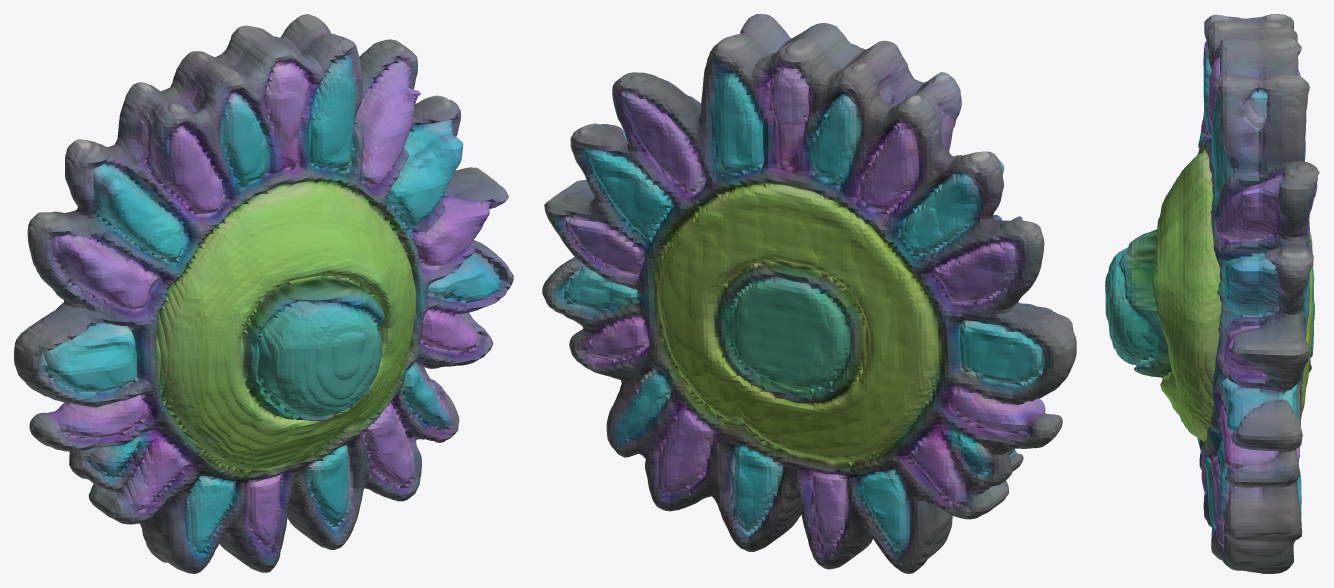
3 renders of one model, left to right at view 1: azimuth 30°, elevation 25°; view 2: azimuth 150°, elevation 25°; view 3: azimuth 270°, elevation 25°, orthographic. The views are drawn at different scales.
Visible parts, largest first — view 1: world; view 2: world; view 3: world.
Boxes of the visible parts, left/top/right/bottom form: world: left=14, top=14, right=513, bottom=573; world: left=542, top=14, right=1076, bottom=573; world: left=1105, top=14, right=1319, bottom=573.
Bounding box in the file's own units: 0.9536 × 0.9466 × 0.3699.
